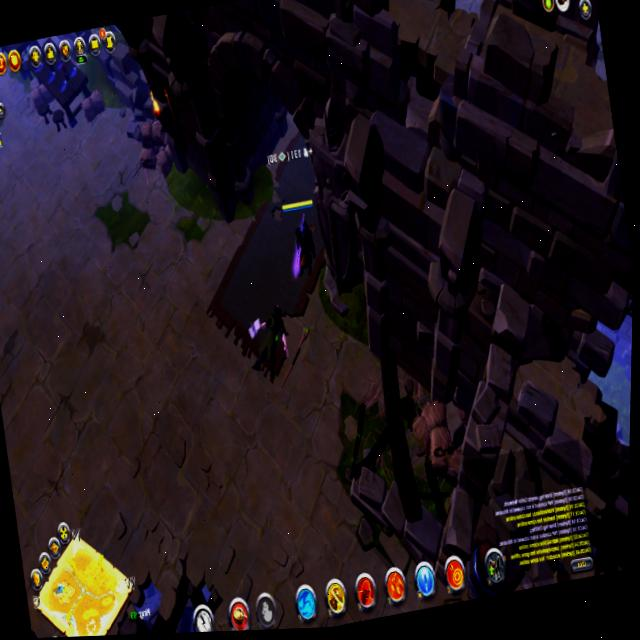red: (274, 189, 331, 285)
